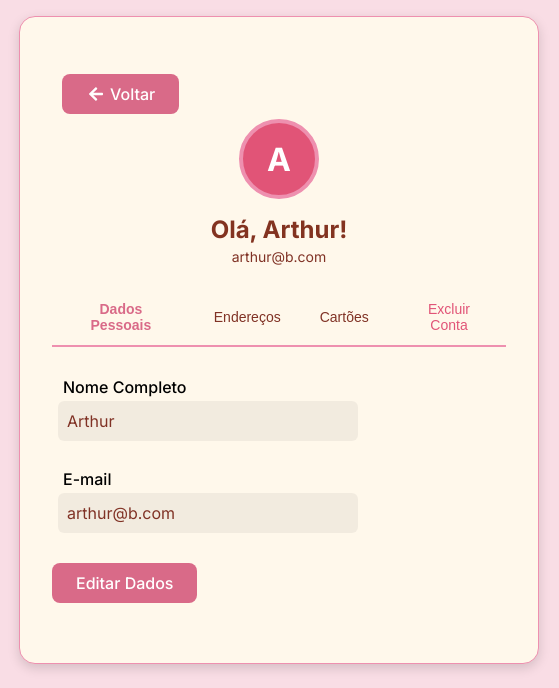
Scenario: Profile › alterar senha sem informar senha atual deve mostrar erro
Click the button "Editar Dados".
click(125, 583)  # box [52,563,197,603]
(page scrolled)
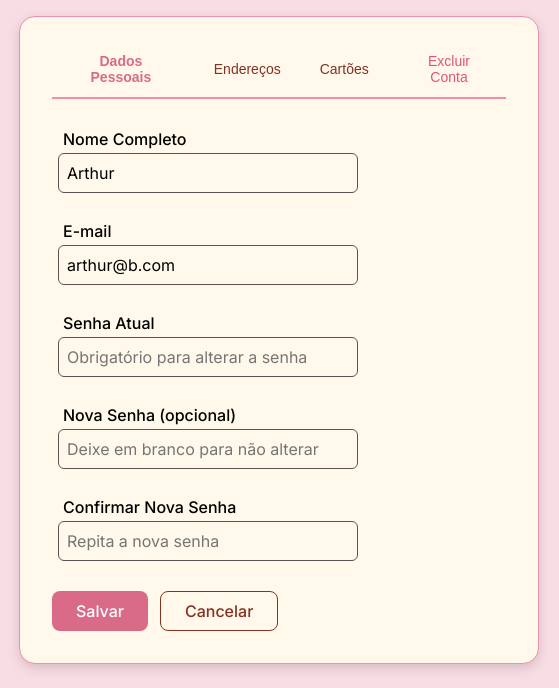
Type "NovaSenha123" into the password field with placeholder "Deixe em branco para não alterar".
click(208, 449); type("NovaSenha123")  # box [58,429,358,469]
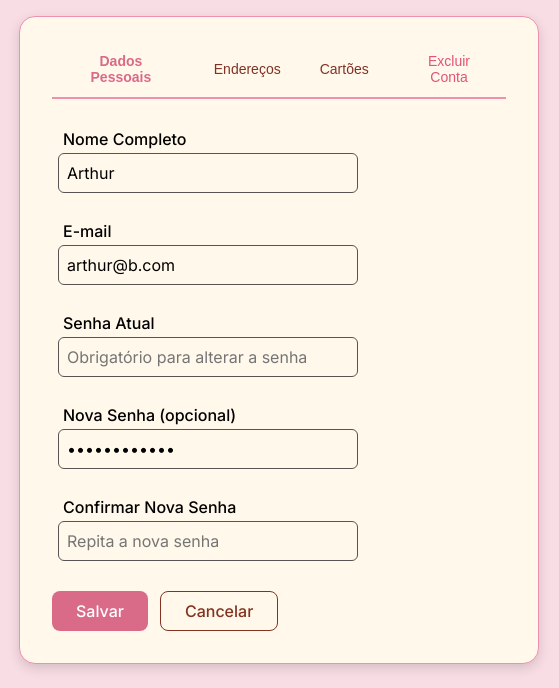
Click the button "Salvar".
click(100, 611)  # box [52,591,148,631]
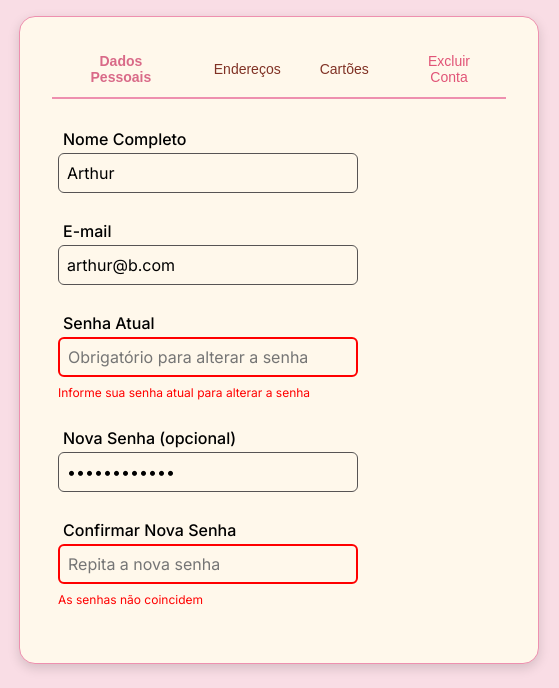
Result: the text "Informe sua senha atual para alterar a senha" is shown at [58,385,310,400]
